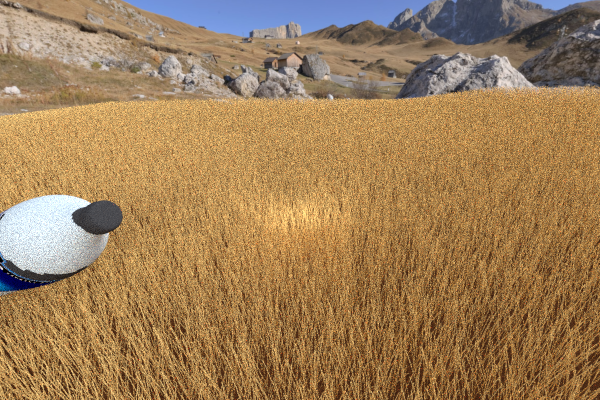bottle: (0, 194, 122, 298)
can: (114, 125, 158, 162)
